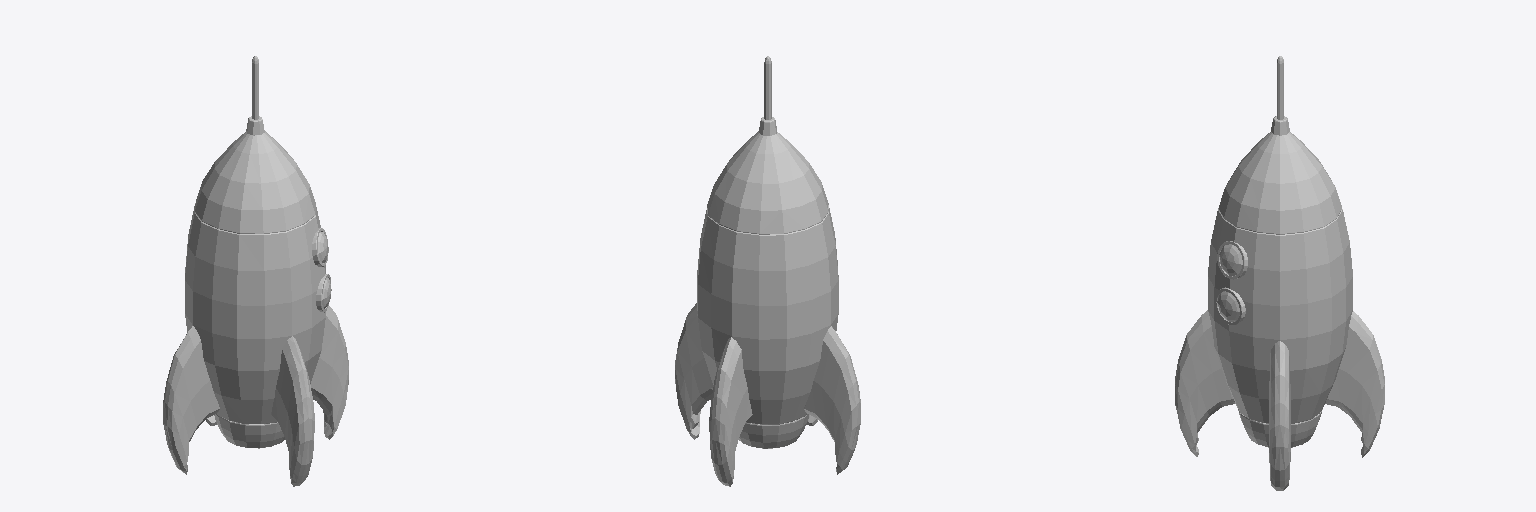
File: ToyRocket_AM.obj
3 renders of one model, left to right at view 1: azimuth 30°, elevation 25°; view 2: azimuth 150°, elevation 25°; view 3: azimuth 270°, elevation 25°, orthographic.
Parts seen in each view (by area): view 1: LP_ToyRocket; view 2: LP_ToyRocket; view 3: LP_ToyRocket.
Boxes of the visible parts, <box> form: LP_ToyRocket: <box>163,56,348,486</box>; LP_ToyRocket: <box>675,56,860,486</box>; LP_ToyRocket: <box>1175,56,1384,490</box>.
Bounding box in the file's own units: 0.216 × 0.4531 × 0.216.